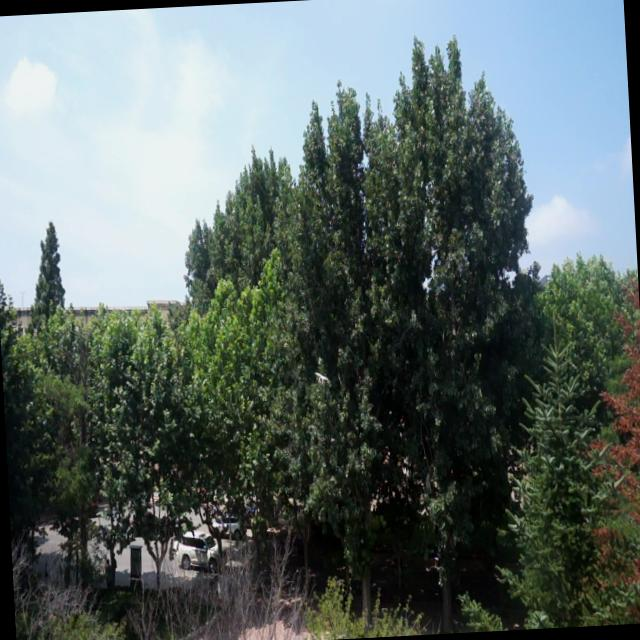drone: (314, 368, 332, 392)
